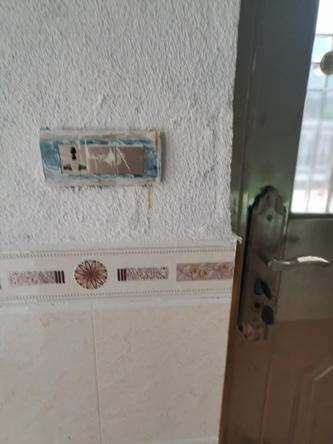switch: (87, 143, 117, 175), (115, 145, 146, 175)
